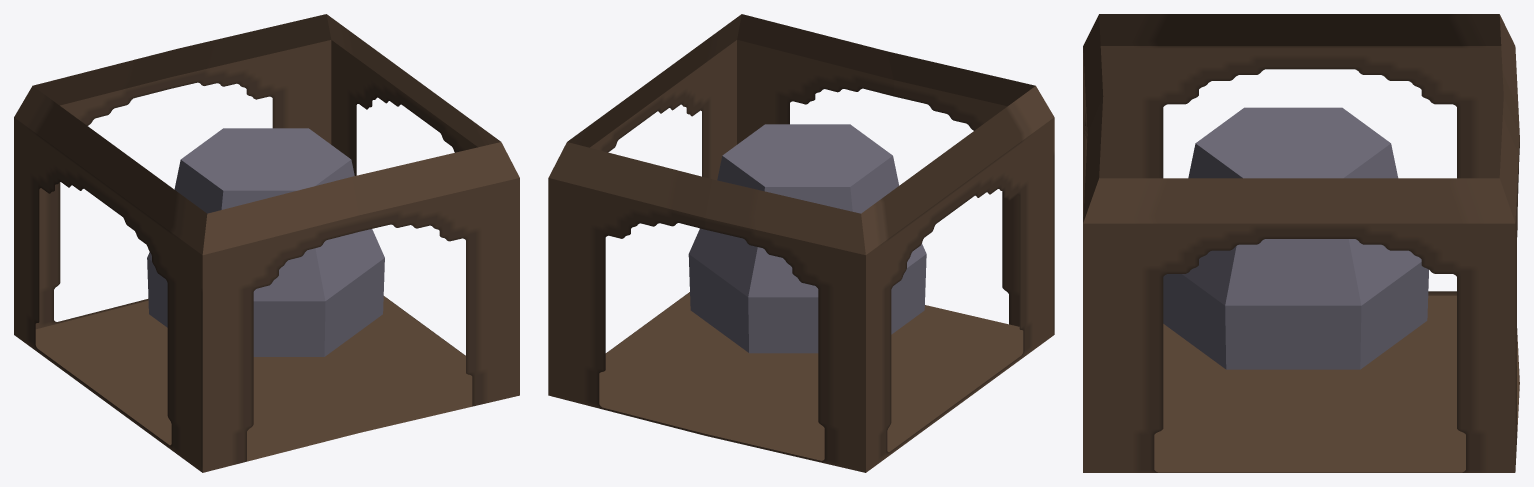
The model's file is belltower.fbx.
3 renders of one model, left to right at view 1: azimuth 30°, elevation 25°; view 2: azimuth 150°, elevation 25°; view 3: azimuth 270°, elevation 25°, orthographic. The views are drawn at different scales.
Parts seen in each view (by area): view 1: Casa__1__7.055; view 2: Casa__1__7.055; view 3: Casa__1__7.055.
Part boxes in pixels (x1=…): Casa__1__7.055: x1=14, y1=14, x2=519, y2=472; Casa__1__7.055: x1=548, y1=14, x2=1054, y2=472; Casa__1__7.055: x1=1083, y1=14, x2=1519, y2=472.
Bounding box in the file's own units: 569 × 431 × 591.
